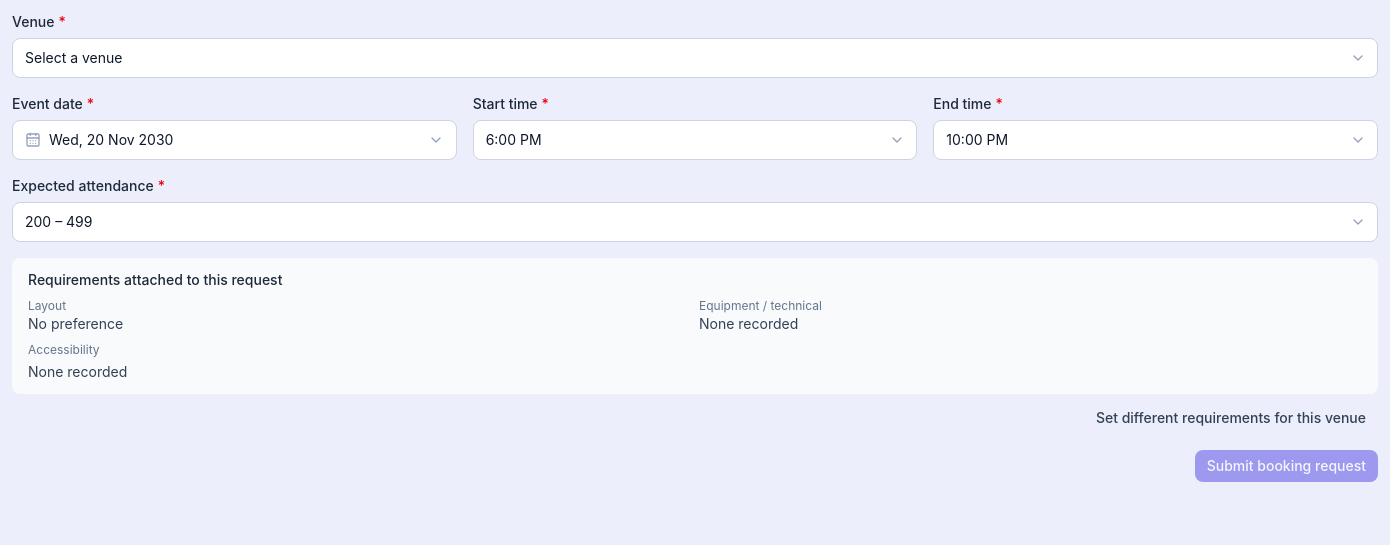
Test: Capacity AC-1/AC-2: the Coordinator can only submit a request the venue can hold › Capacity AC-1: allows submitting once a range the venue can hold is picked
The image size is (1390, 545).
Select "Alumni Lounge (capacity 90)" in the dropdown labelled "Venue*": (695, 58) 12,38 -> 1378,78
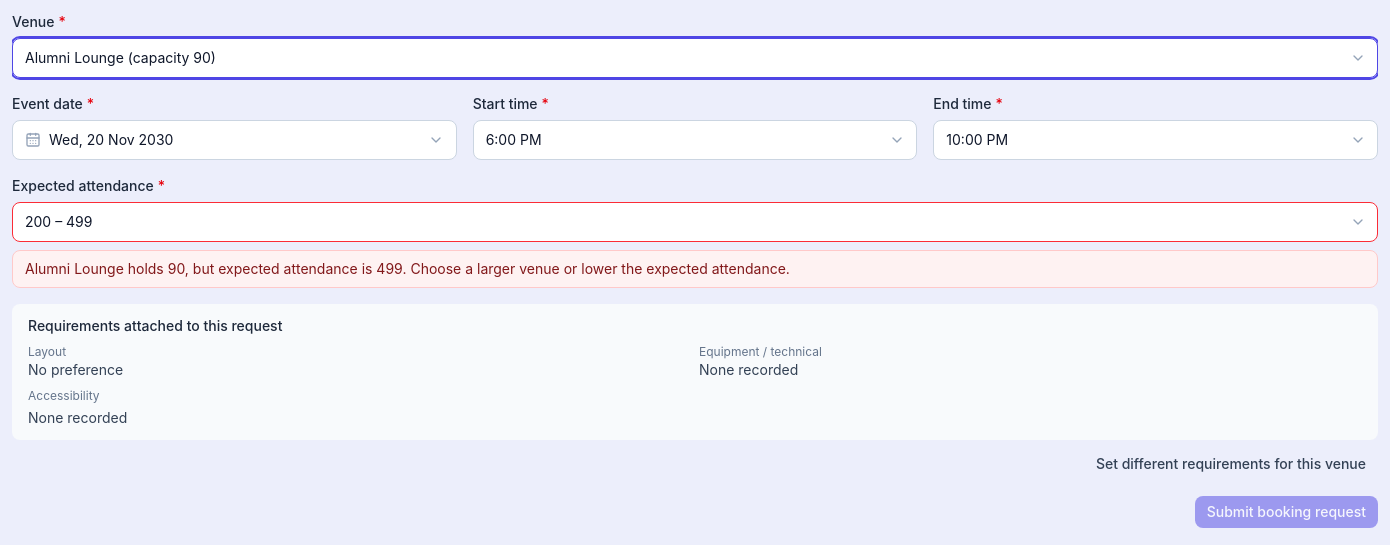
Select "10 – 49" in the dropdown labelled "Expected attendance*": (695, 222) 12,202 -> 1378,242
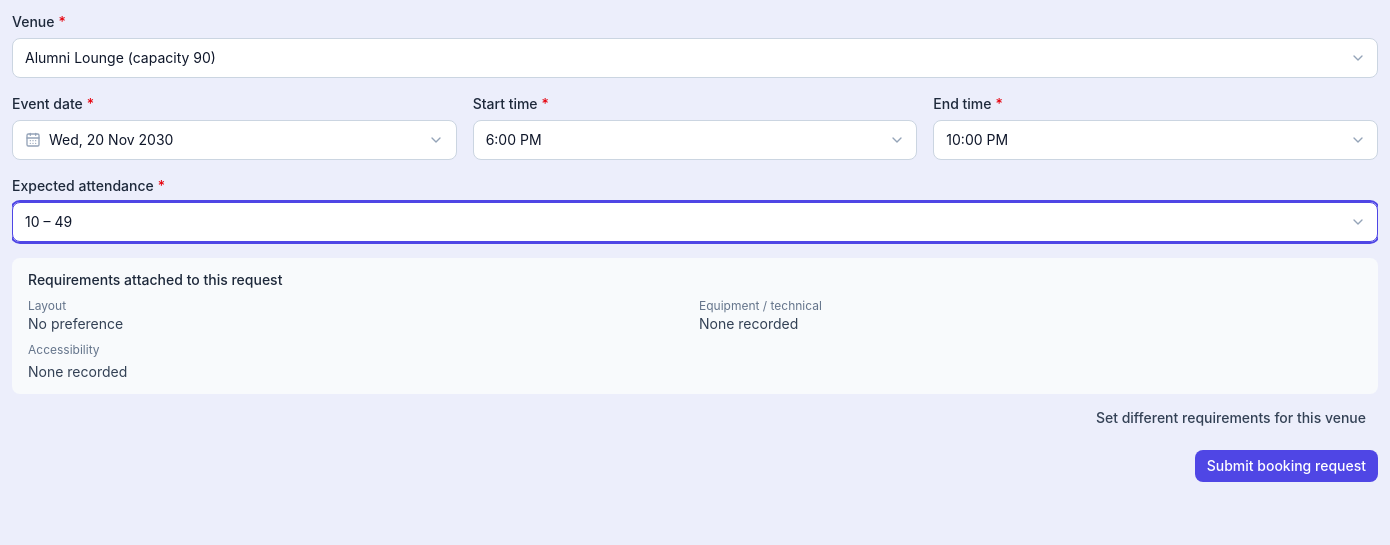
Expected: the message is gone
Expected: the button "Submit booking request" is enabled, 1195,450 -> 1378,482
